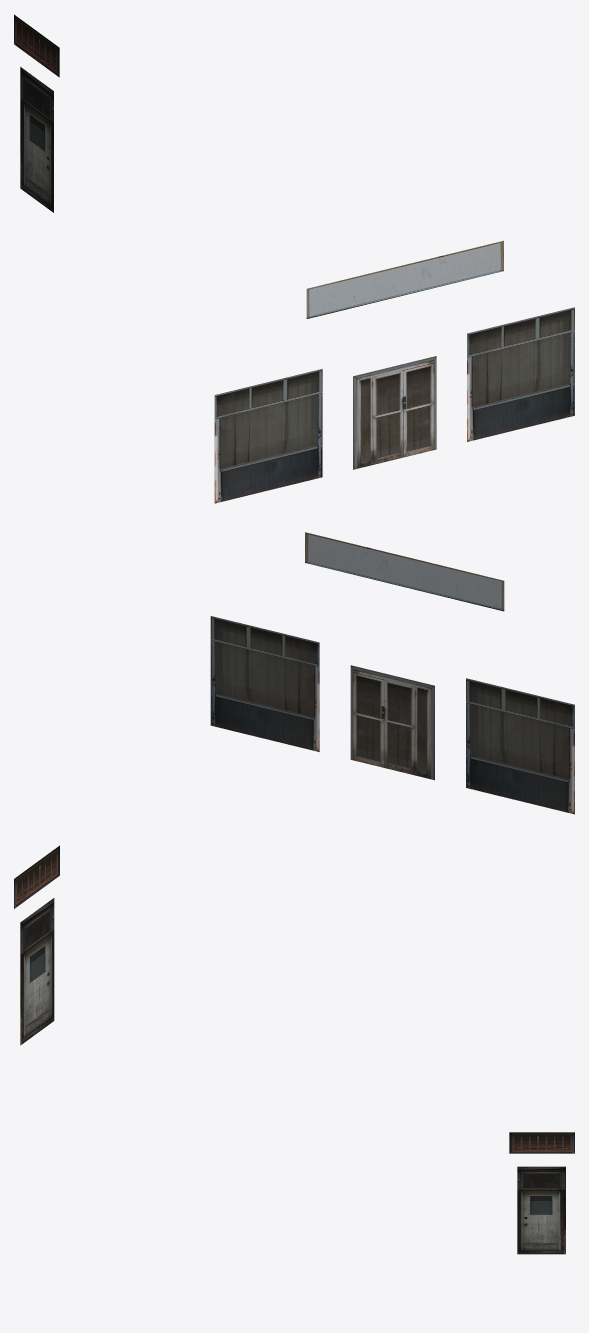
Rendered from rural_storesmall_2_rural_facade_flr_2_0.glb.
3 views of the same model, one above another, from view 1: azimuth 30°, elevation 25°; view 2: azimuth 150°, elevation 25°; view 3: azimuth 270°, elevation 25° (orthographic). The views are drawn at different scales.
Visible parts, largest first — view 1: Rural_StoreSmall_2_Rural_Facade_FLR_2_0; view 2: Rural_StoreSmall_2_Rural_Facade_FLR_2_0; view 3: Rural_StoreSmall_2_Rural_Facade_FLR_2_0.
Part boxes in pixels (box(x1,y1,x2,y2)): Rural_StoreSmall_2_Rural_Facade_FLR_2_0: box(14, 14, 574, 503); Rural_StoreSmall_2_Rural_Facade_FLR_2_0: box(14, 532, 574, 1045); Rural_StoreSmall_2_Rural_Facade_FLR_2_0: box(509, 1132, 574, 1254).
Bounding box in the file's own units: 6.3 × 3.39 × 11.77.
1 material, 1 textured.
